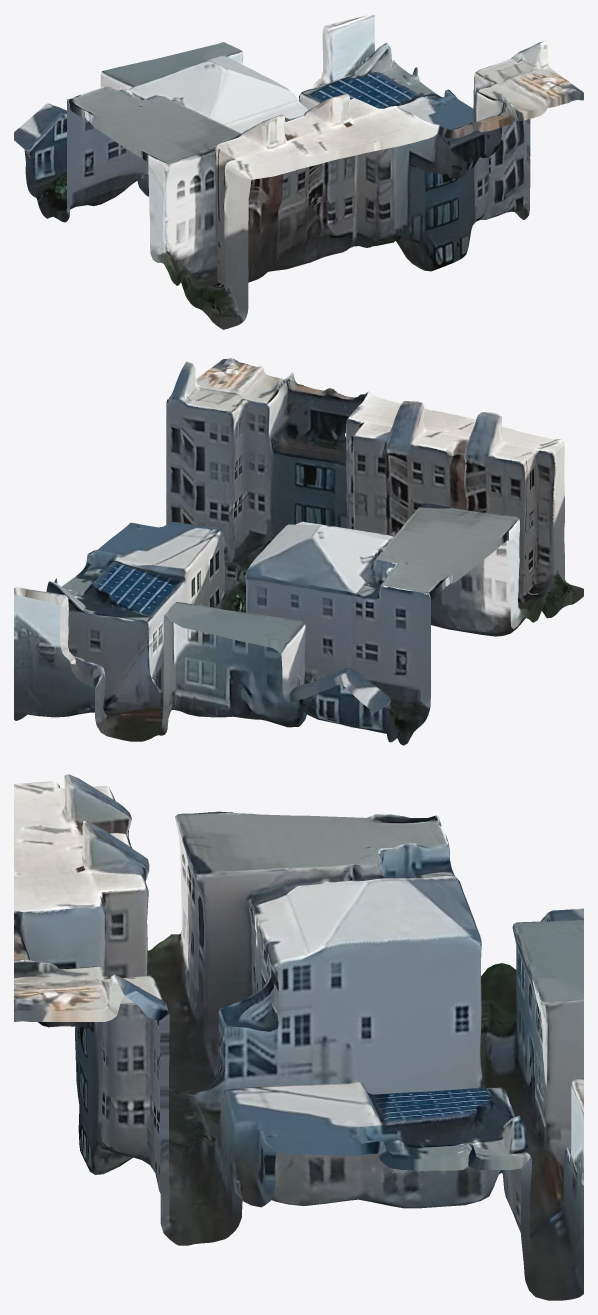
File: z20-167742-405193-h0-yup-uvflip-v3-world.glb
3 renders of one model, top to bottom at view 1: azimuth 30°, elevation 25°; view 2: azimuth 150°, elevation 25°; view 3: azimuth 270°, elevation 25°, orthographic. The views are drawn at different scales.
Bounding box in the file's own units: 30.16 × 19.44 × 30.32.
Materials: 1 (1 with a texture image).
